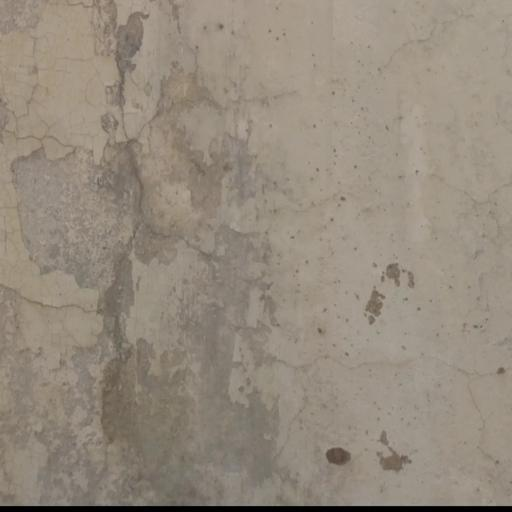peeling: (12, 3, 304, 512)
